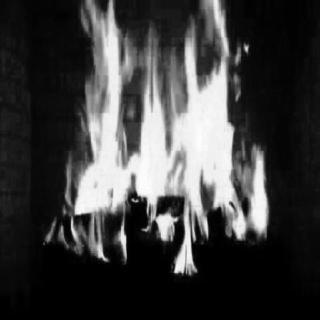Fire: (31, 1, 285, 278)
